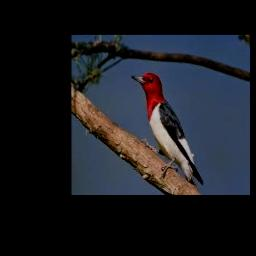Woodpecker: (131, 72, 204, 190)
